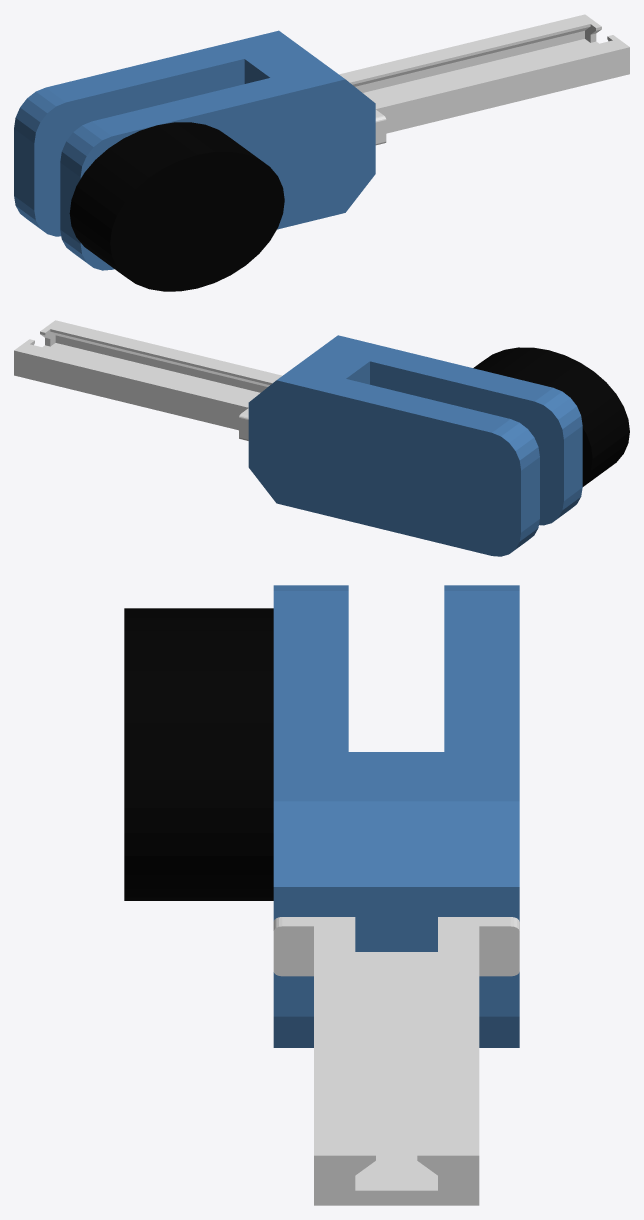
The model's file is VIS_HandLink.dae.
The picture shows the model from 3 angles, top to bottom: view 1: azimuth 30°, elevation 25°; view 2: azimuth 150°, elevation 25°; view 3: azimuth 270°, elevation 25°; orthographic projection. The views are drawn at different scales.
Visible parts, largest first — view 1: VIS_HandLink; view 2: VIS_HandLink; view 3: VIS_HandLink.
Boxes of the visible parts, left/top/right/bottom form: VIS_HandLink: left=14, top=14, right=629, bottom=291; VIS_HandLink: left=14, top=320, right=629, bottom=556; VIS_HandLink: left=124, top=585, right=519, bottom=1205.
Size of the model in its own units: 0.1118 by 0.0363 by 0.025.
